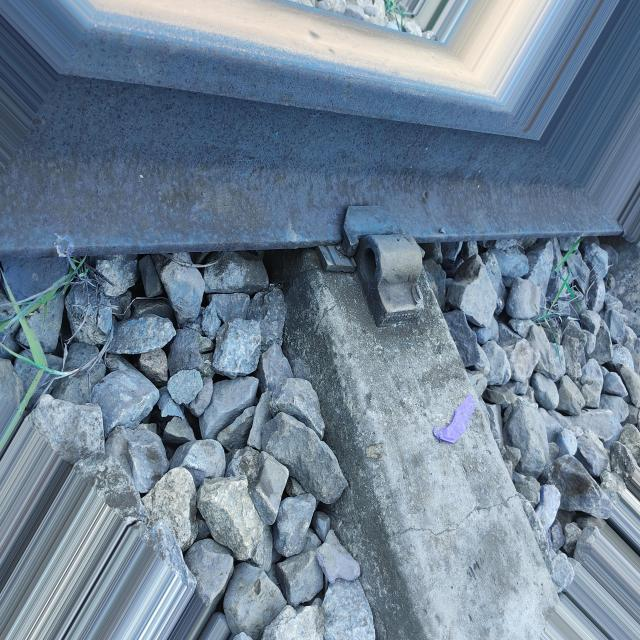Missing Fastener: (313, 185, 485, 387)
